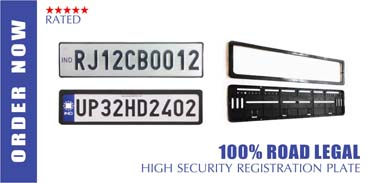number_plate: (59, 41, 204, 78), (58, 89, 203, 126)
